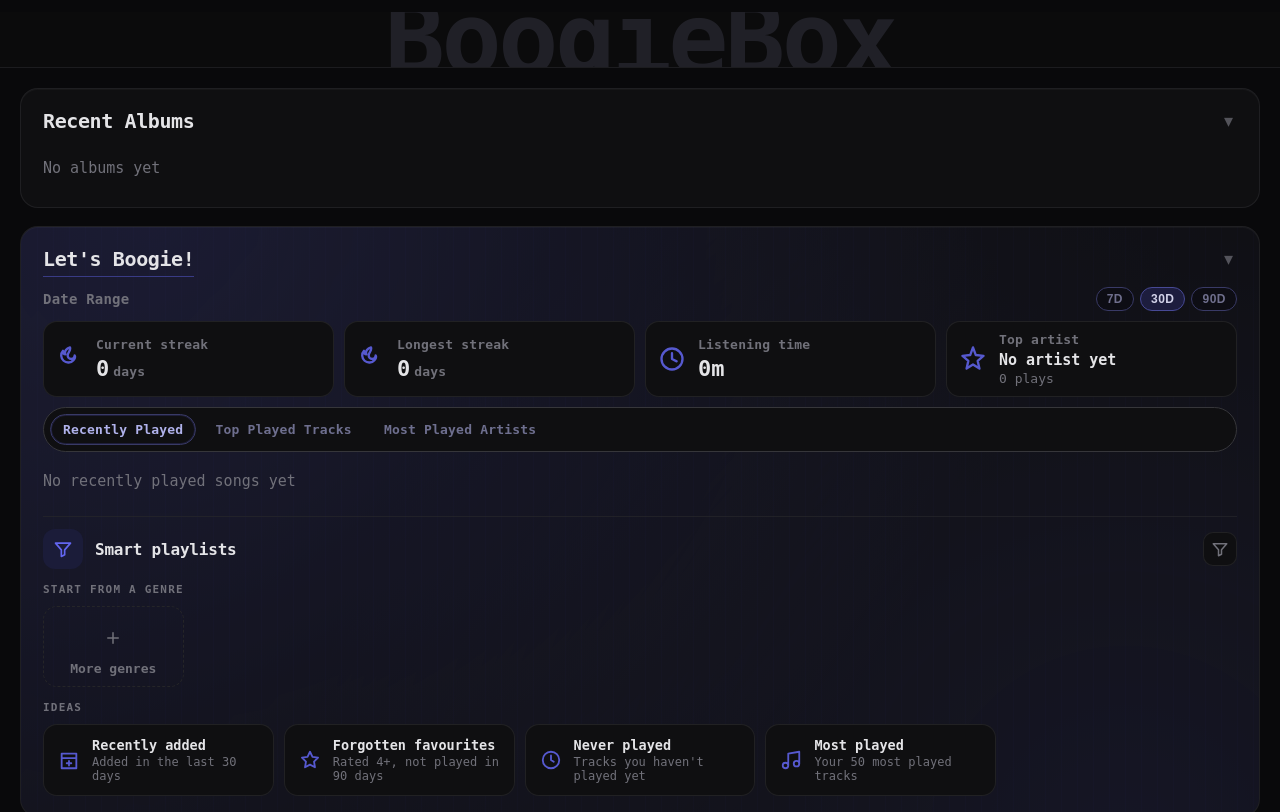
Test: HomeView playback activity tabs › shows artist total play counts instead of track totals in Most Played Artists view
Click the tab "Most Played Artists": [460, 430] box [371,414,549,445]
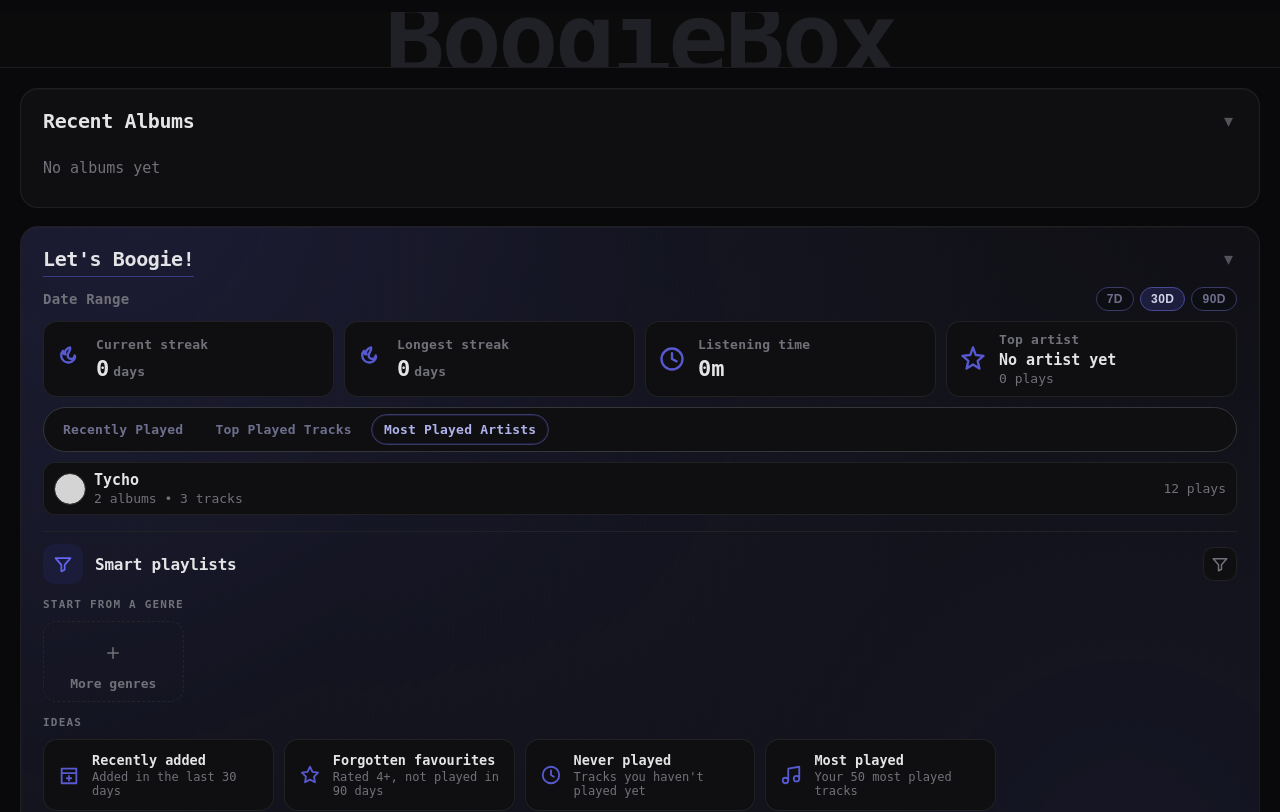
Check: the text "12 plays" is shown once, box [1163,481,1226,496]
